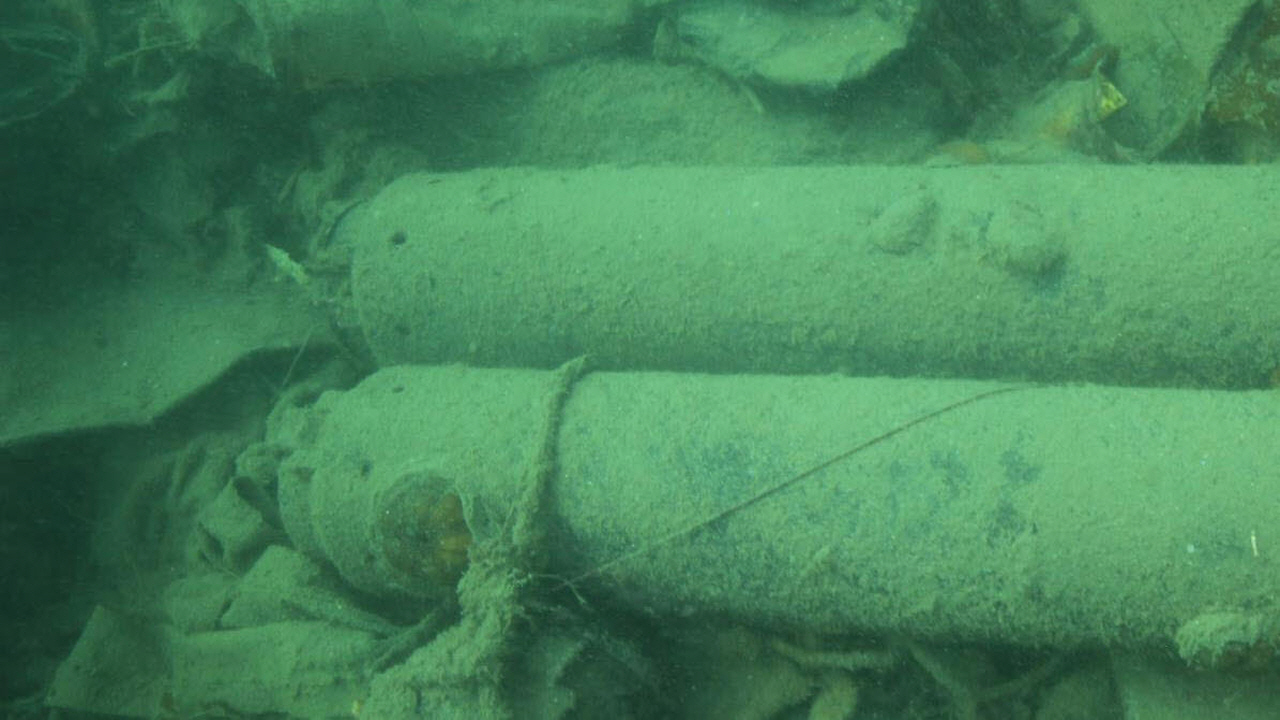eel fish trap: (273, 361, 1280, 668), (300, 156, 1280, 393)
rope: (511, 354, 593, 547)
